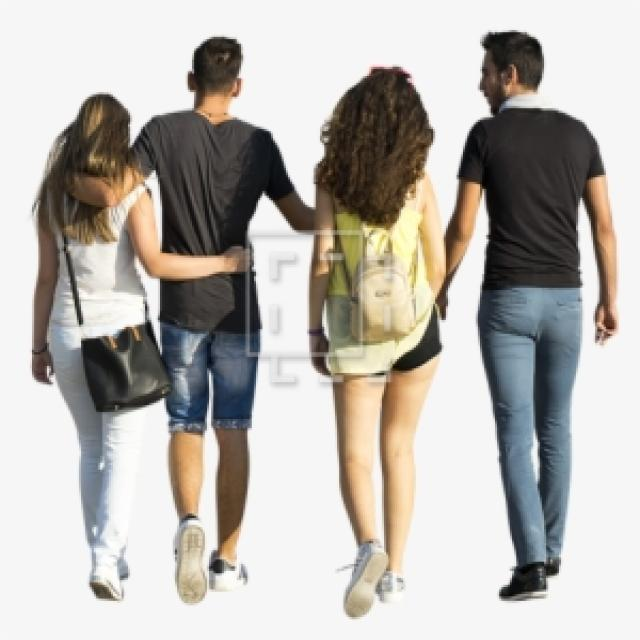adult: (54, 34, 312, 598), (28, 91, 254, 605), (446, 27, 620, 605), (313, 61, 447, 618)
